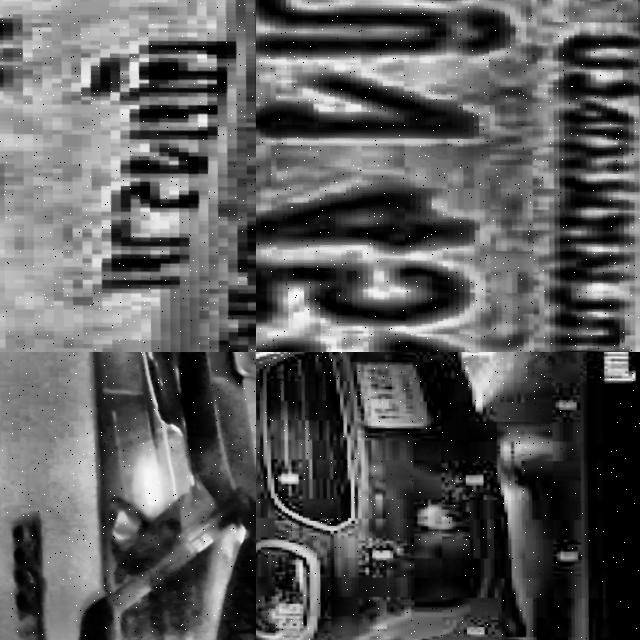license-plate: (256, 0, 640, 352), (0, 0, 256, 352), (350, 352, 435, 428)
